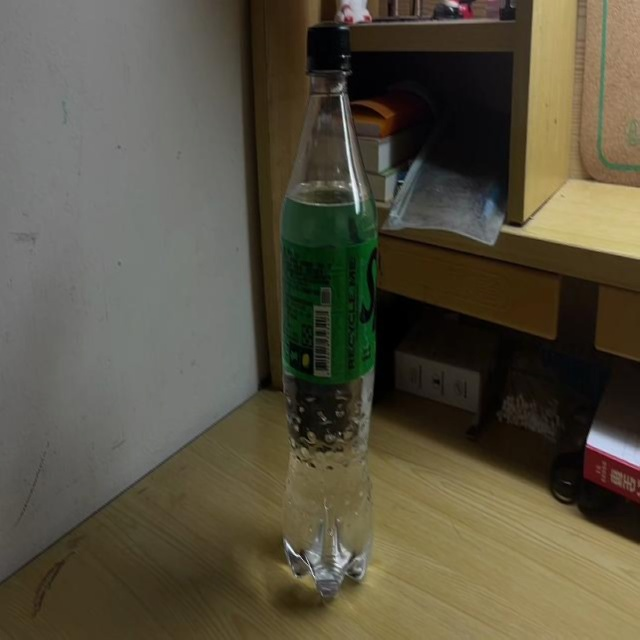Sprite: (279, 22, 378, 603)
